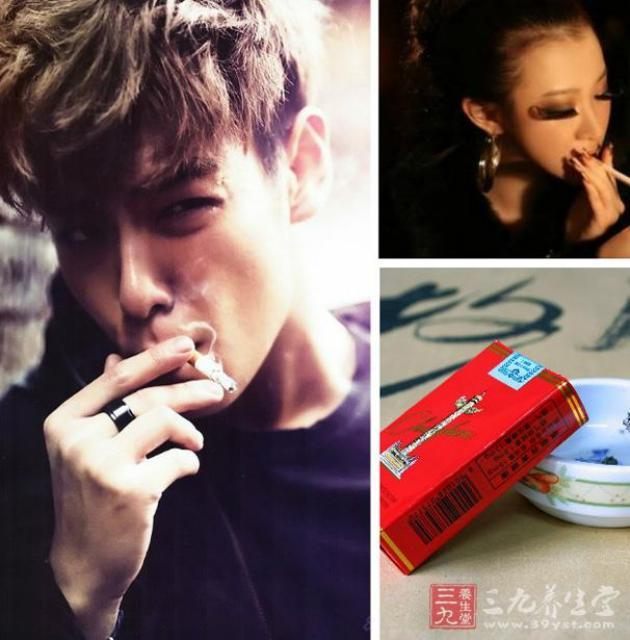SafeDriving: (141, 170, 235, 236)
Smoking: (186, 348, 240, 398), (605, 160, 629, 192)
